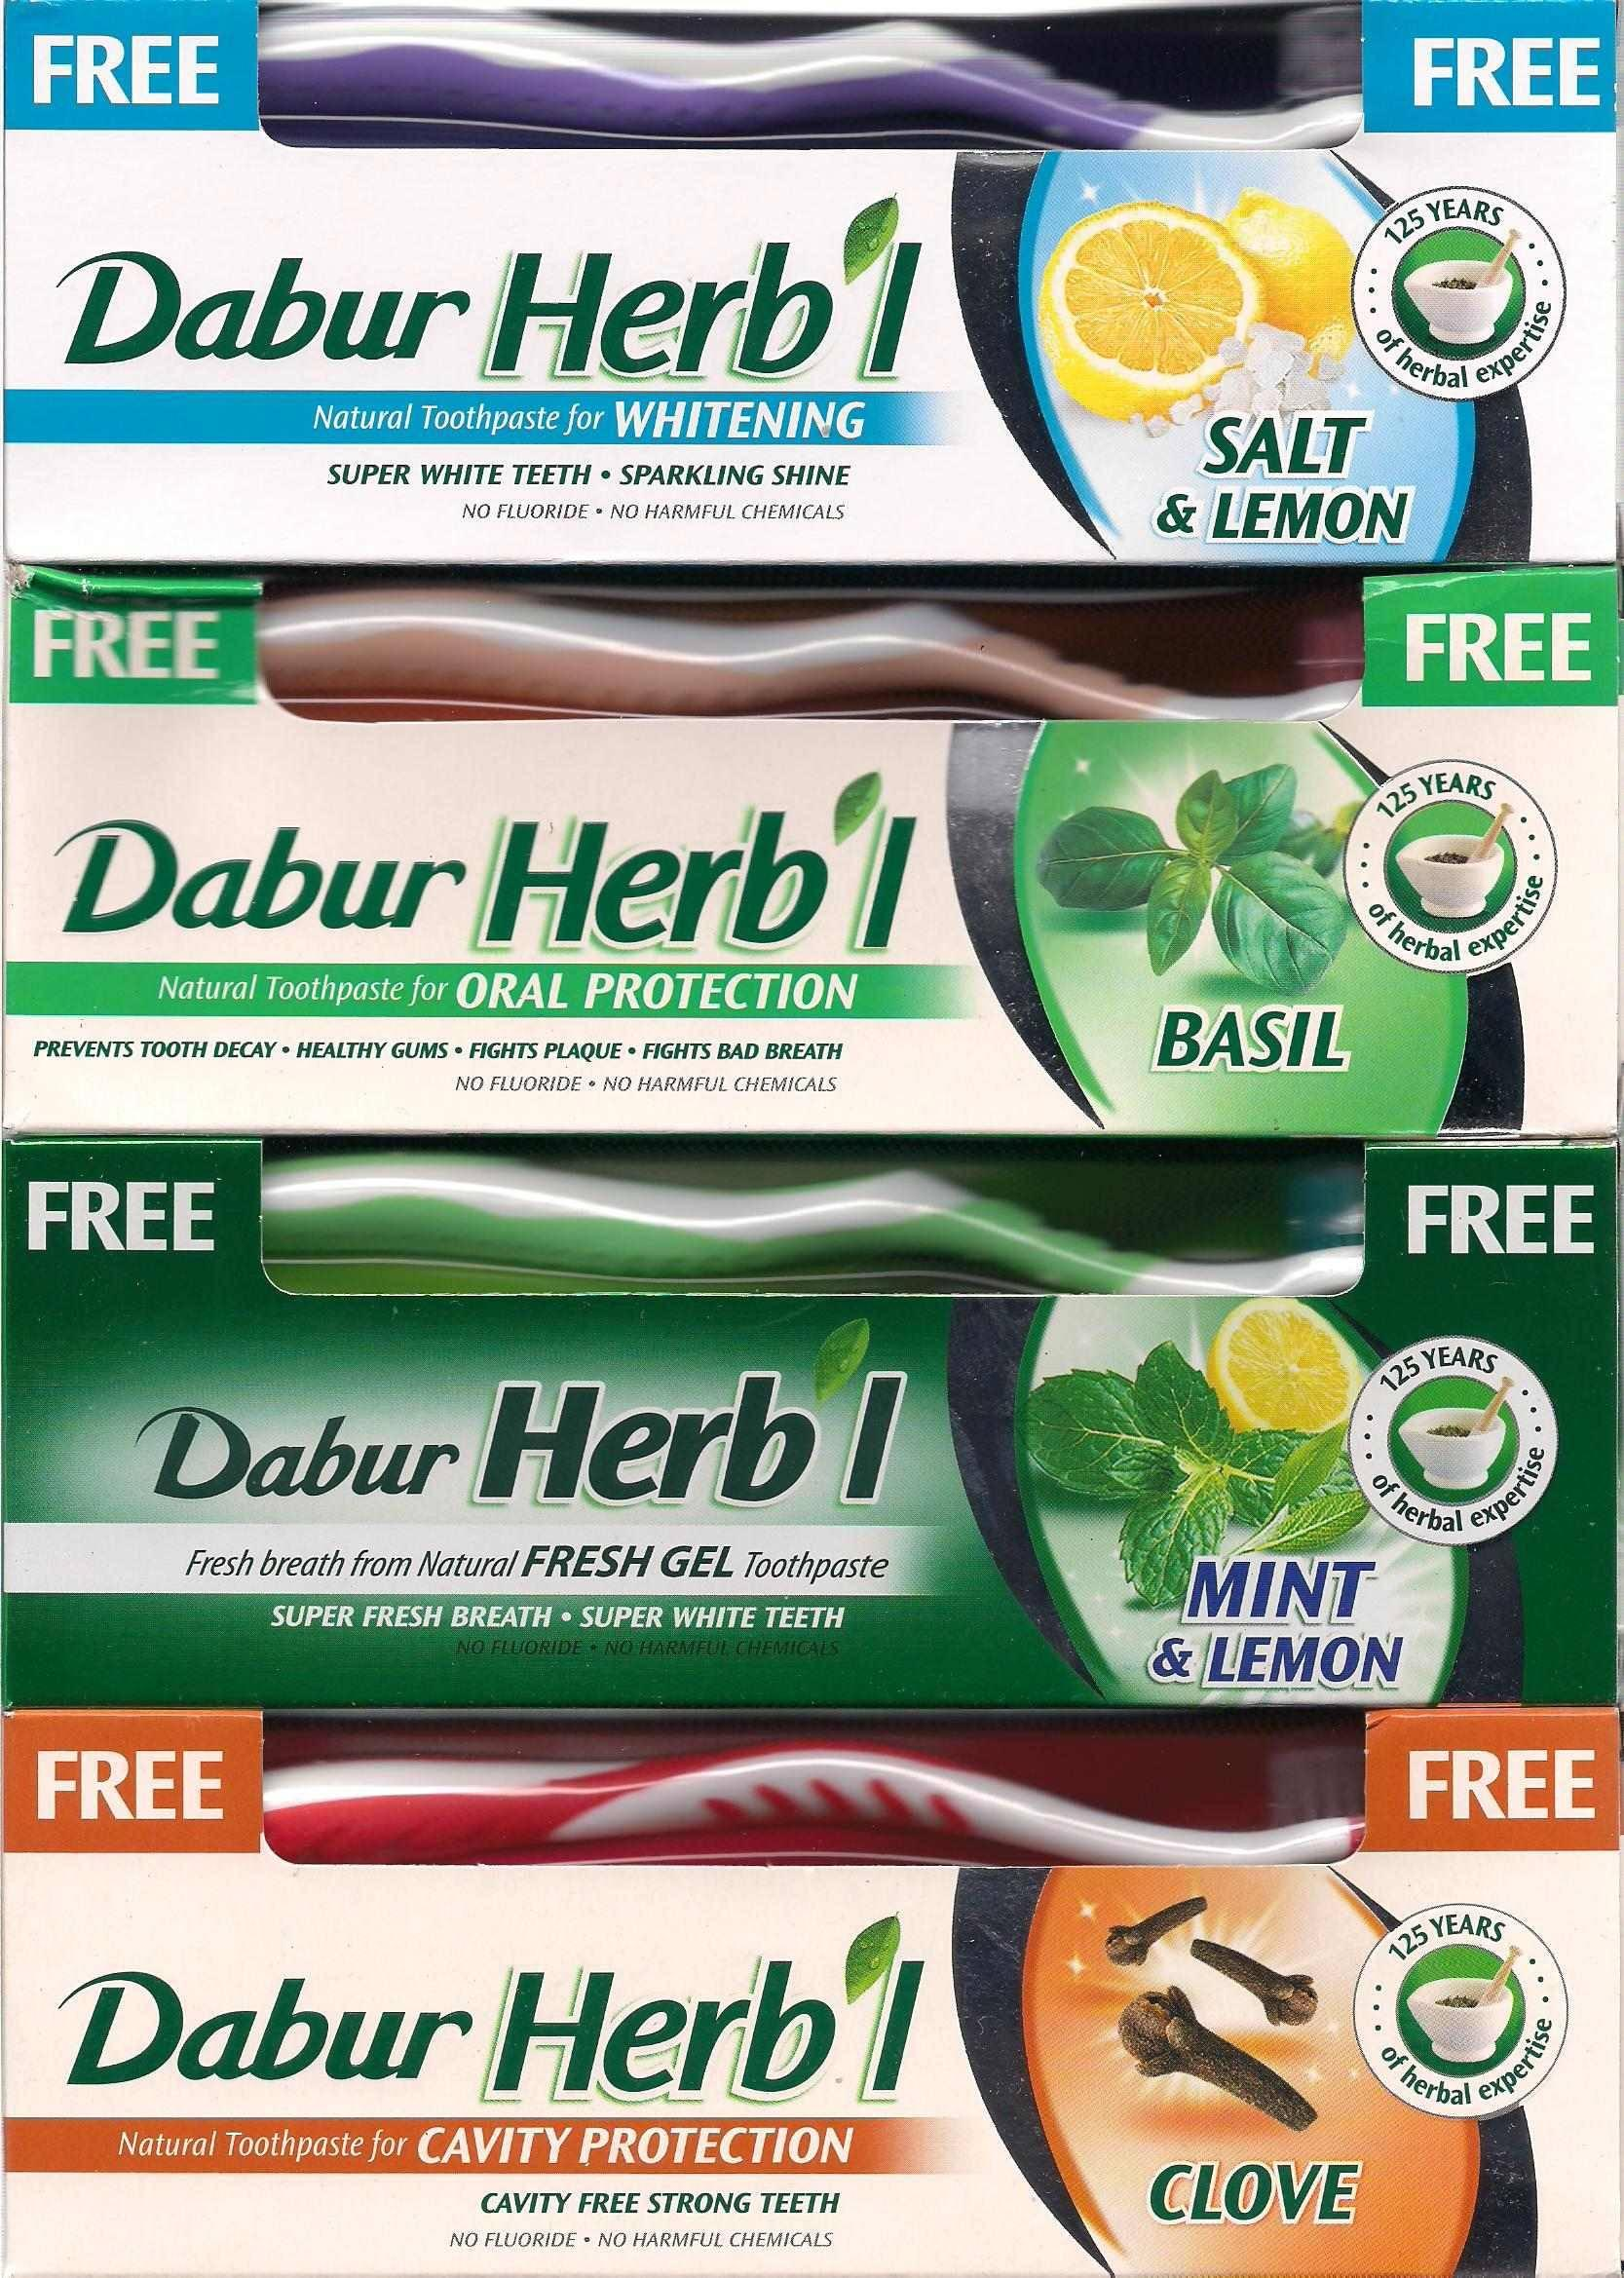toothpaste: (0, 561, 1624, 1160), (0, 1128, 1624, 1719), (0, 1696, 1624, 2274), (0, 0, 1608, 554)
